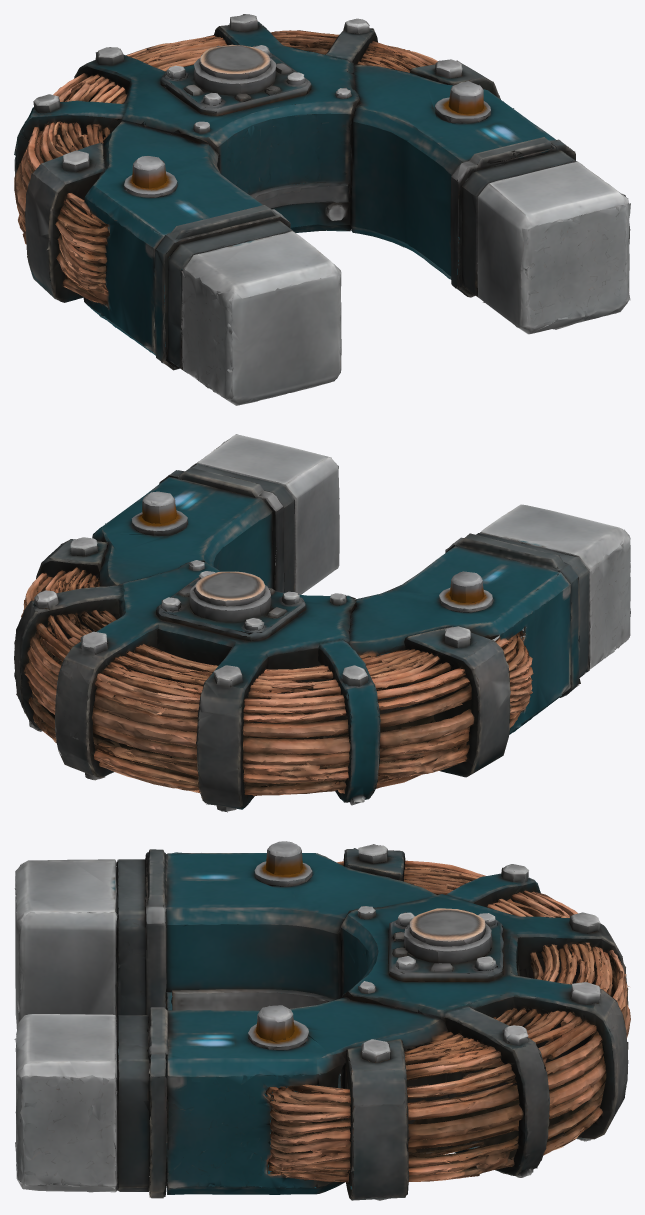
Rendered from SM_HeroMagnet.fbx.
3 renders of one model, top to bottom at view 1: azimuth 30°, elevation 25°; view 2: azimuth 150°, elevation 25°; view 3: azimuth 270°, elevation 25°, orthographic. The views are drawn at different scales.
Visible parts, largest first — view 1: SM_HeroMagnet; view 2: SM_HeroMagnet; view 3: SM_HeroMagnet.
Part boxes in pixels (x1,y1,x2,y2): SM_HeroMagnet: (14, 14, 630, 405); SM_HeroMagnet: (14, 434, 630, 812); SM_HeroMagnet: (14, 841, 630, 1200).
Size of the model in its own units: 92.75 by 100 by 31.89.
Materials: 1 (1 with a texture image).
